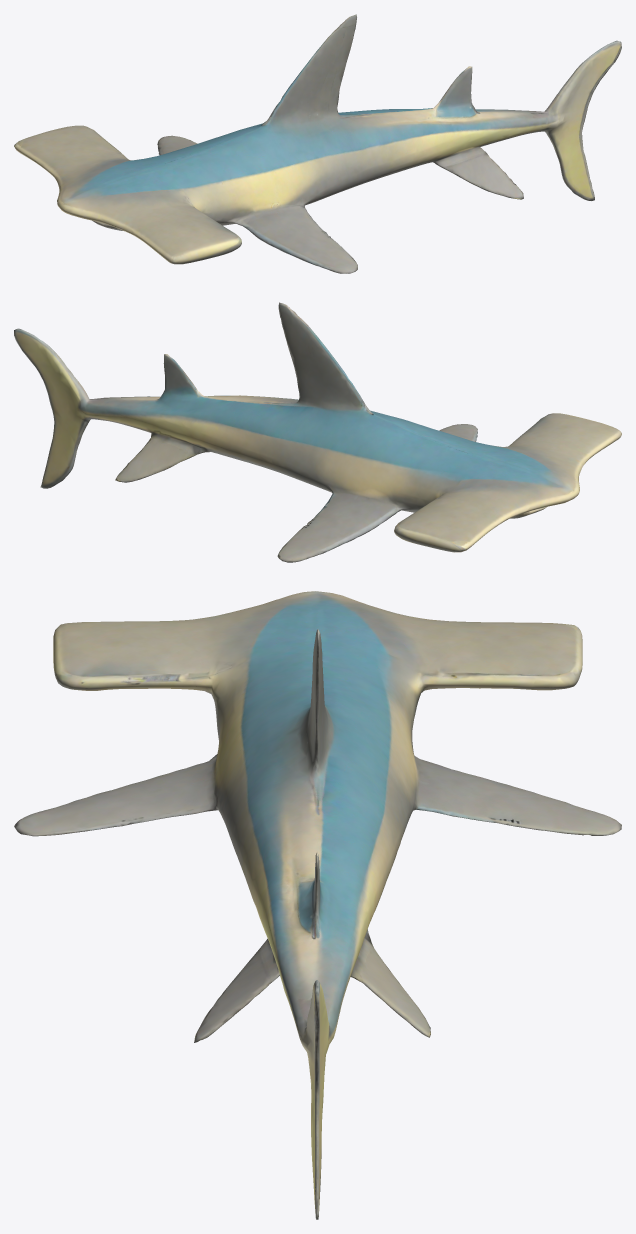
Rendered from asset.glb.
The picture shows the model from 3 angles, top to bottom: view 1: azimuth 30°, elevation 25°; view 2: azimuth 150°, elevation 25°; view 3: azimuth 270°, elevation 25°; orthographic projection. The views are drawn at different scales.
Bounding box in the file's own units: 1.99 × 0.8275 × 1.15.
1 material, 1 textured.
